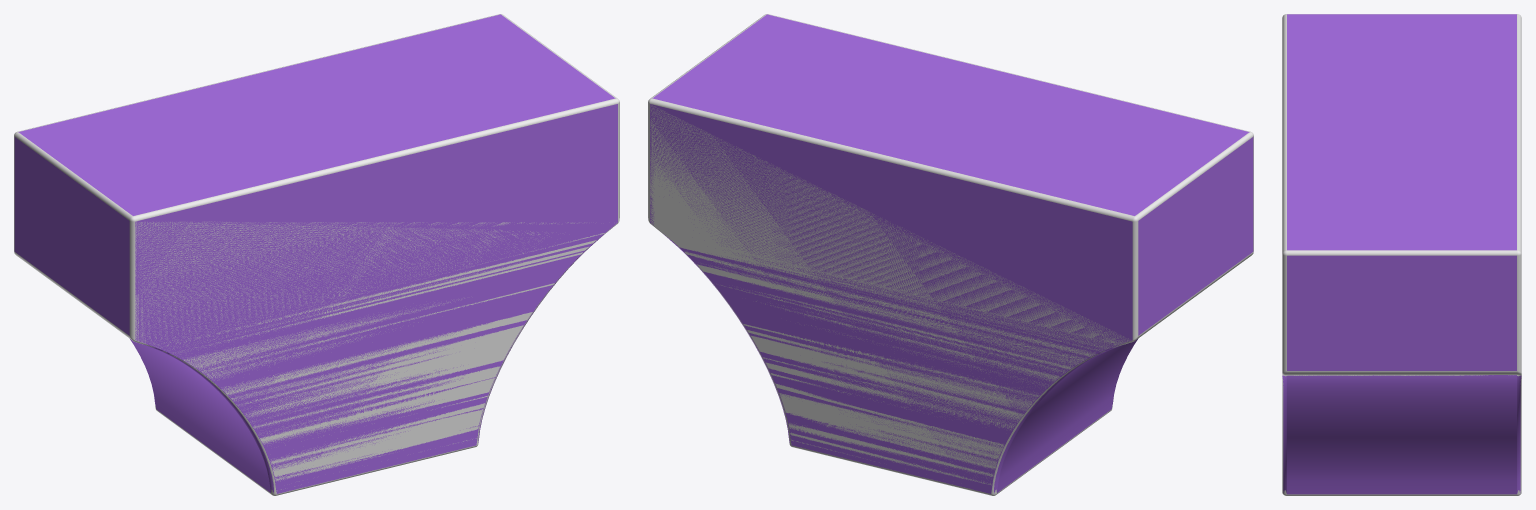
Rendered from RM Pillar top flat style.fbx.
3 renders of one model, left to right at view 1: azimuth 30°, elevation 25°; view 2: azimuth 150°, elevation 25°; view 3: azimuth 270°, elevation 25°, orthographic.
Parts seen in each view (by area): view 1: Column top flat style_PHYS, Column top flat style_LOD0; view 2: Column top flat style_PHYS, Column top flat style_LOD0; view 3: Column top flat style_PHYS, Column top flat style_LOD0.
Boxes of the visible parts, bbox=[...] form: Column top flat style_PHYS: bbox=[14, 14, 617, 493]; Column top flat style_LOD0: bbox=[14, 14, 619, 495]; Column top flat style_PHYS: bbox=[650, 14, 1253, 493]; Column top flat style_LOD0: bbox=[648, 14, 1253, 495]; Column top flat style_PHYS: bbox=[1282, 14, 1521, 494]; Column top flat style_LOD0: bbox=[1282, 14, 1521, 495].
Size of what is drawn, in the model's own units: 237 by 145 by 100.
